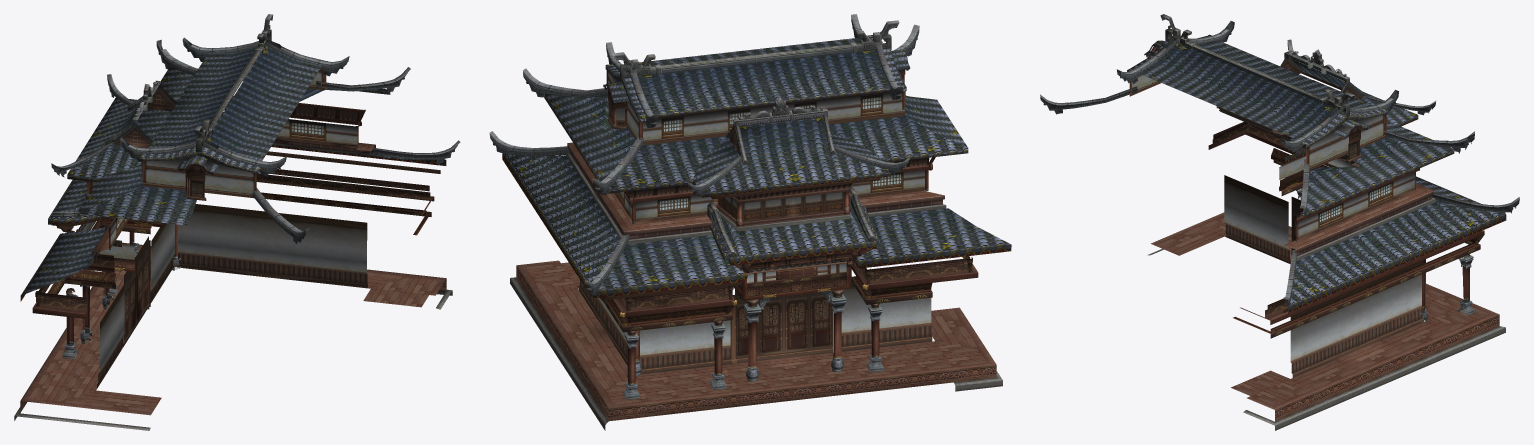
The model's file is S2_Build_XSC014_H1.FBX.
3 views of the same model, side by side, from view 1: azimuth 30°, elevation 25°; view 2: azimuth 150°, elevation 25°; view 3: azimuth 270°, elevation 25° (orthographic). The views are drawn at different scales.
Visible parts, largest first — view 1: S2_Build_XSC014_H1; view 2: S2_Build_XSC014_H1; view 3: S2_Build_XSC014_H1.
Boxes of the visible parts, x1,y1,x2,y2 form: S2_Build_XSC014_H1: [14, 14, 460, 430]; S2_Build_XSC014_H1: [489, 14, 1011, 430]; S2_Build_XSC014_H1: [1040, 14, 1519, 430].
Size of the model in its own units: 11207 by 6530 by 10461.
